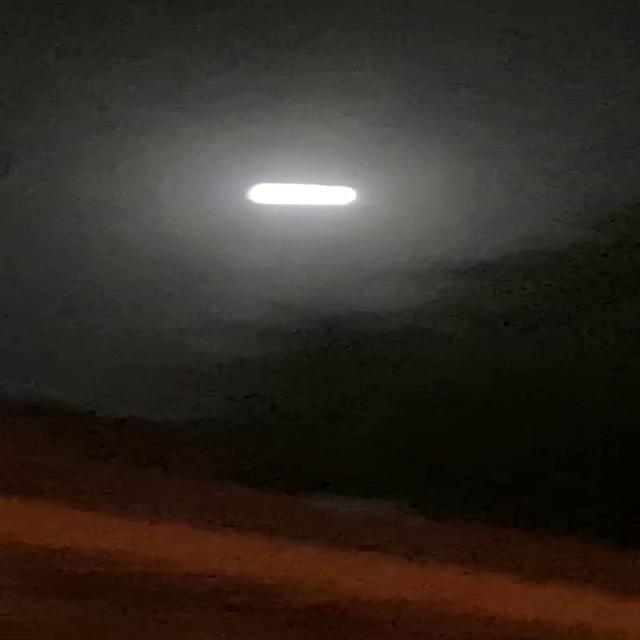moon: (171, 184, 286, 222)
